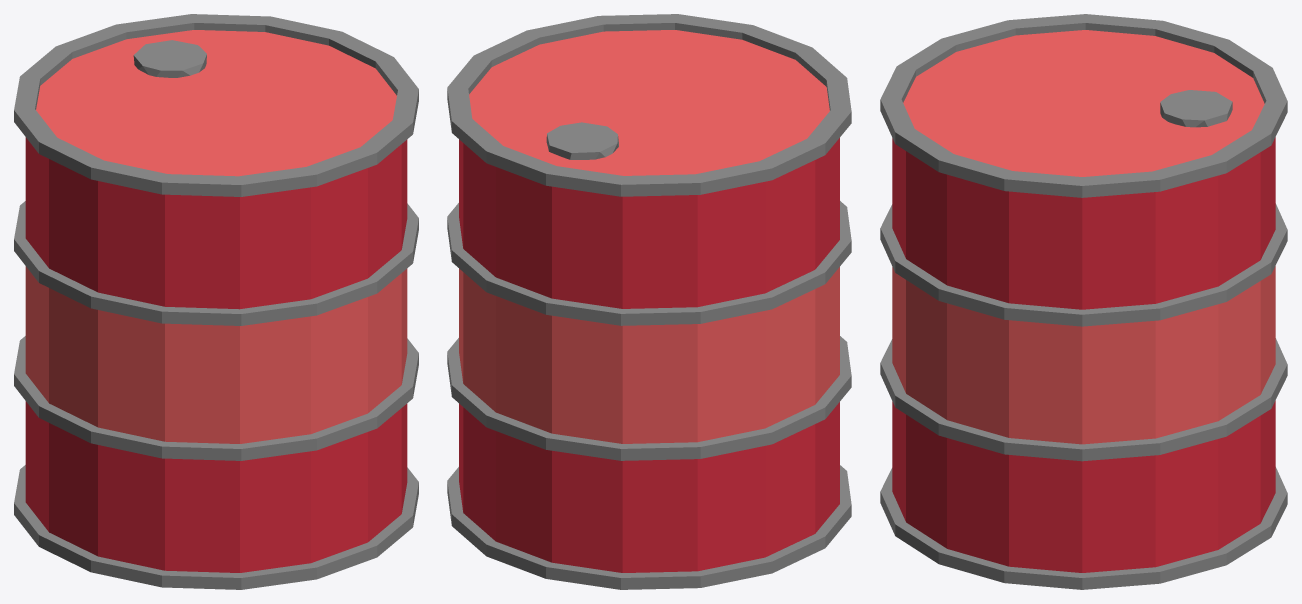
Rendered from Barrel_1_3.fbx.
3 views of the same model, side by side, from view 1: azimuth 30°, elevation 25°; view 2: azimuth 150°, elevation 25°; view 3: azimuth 270°, elevation 25° (orthographic).
Parts seen in each view (by area): view 1: Barrel_1_3; view 2: Barrel_1_3; view 3: Barrel_1_3.
Part boxes in pixels (bbox=[...]): Barrel_1_3: bbox=[14, 14, 418, 589]; Barrel_1_3: bbox=[447, 14, 851, 589]; Barrel_1_3: bbox=[880, 14, 1287, 589].
Bounding box in the file's own units: 78.54 × 86 × 78.54.
